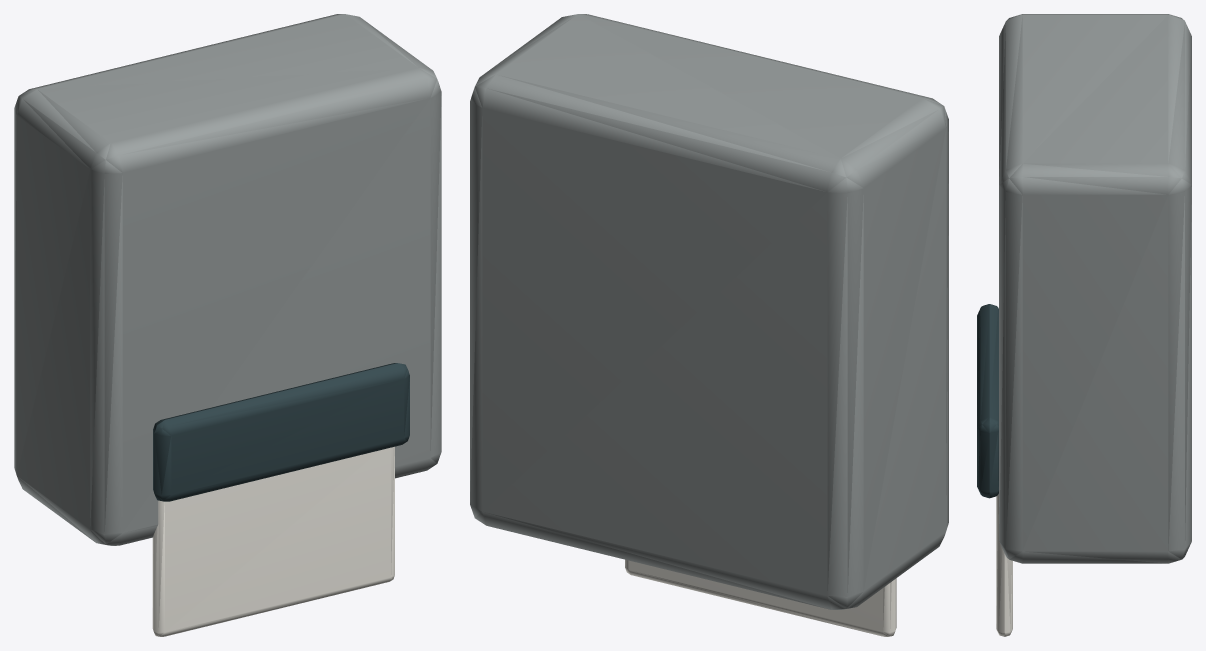
Rendered from 13_starter_towel_dispenser.glb.
3 renders of one model, left to right at view 1: azimuth 30°, elevation 25°; view 2: azimuth 150°, elevation 25°; view 3: azimuth 270°, elevation 25°, orthographic. The views are drawn at different scales.
Visible parts, largest first — view 1: 13_starter_towel_dispenser__Static; view 2: 13_starter_towel_dispenser__Static; view 3: 13_starter_towel_dispenser__Static.
Part boxes in pixels (<box>): 13_starter_towel_dispenser__Static: <box>14,14,441,636</box>; 13_starter_towel_dispenser__Static: <box>470,14,948,636</box>; 13_starter_towel_dispenser__Static: <box>977,14,1191,636</box>.
Bounding box in the file's own units: 0.29 × 0.395 × 0.156.
